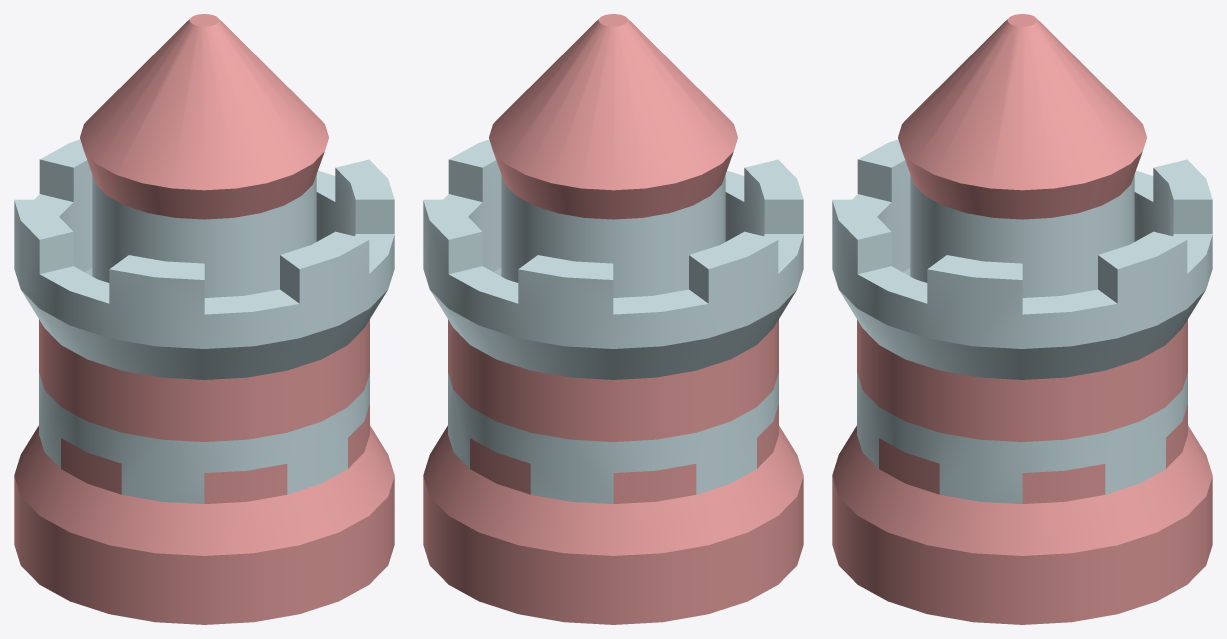
The model's file is towerRound_sampleF.glb.
The picture shows the model from 3 angles, left to right: view 1: azimuth 30°, elevation 25°; view 2: azimuth 150°, elevation 25°; view 3: azimuth 270°, elevation 25°; orthographic projection.
Parts seen in each view (by area): view 1: towerRound_sampleF; view 2: towerRound_sampleF; view 3: towerRound_sampleF.
Boxes of the visible parts, bbox=[...] form: towerRound_sampleF: bbox=[14, 14, 394, 624]; towerRound_sampleF: bbox=[423, 14, 803, 624]; towerRound_sampleF: bbox=[832, 14, 1212, 624].
Size of the model in its own units: 1 by 1.52 by 1.
